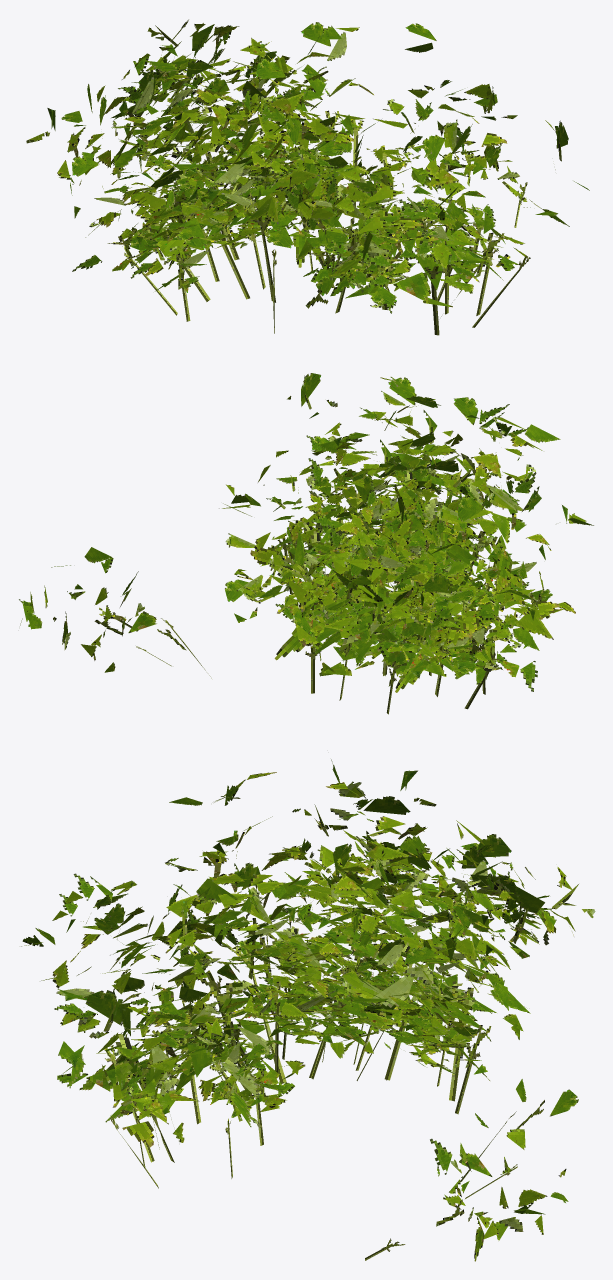
File: groundcover.glb
The picture shows the model from 3 angles, top to bottom: view 1: azimuth 30°, elevation 25°; view 2: azimuth 150°, elevation 25°; view 3: azimuth 270°, elevation 25°; orthographic projection. The views are drawn at different scales.
Parts seen in each view (by area): view 1: Object_10; view 2: Object_10; view 3: Object_10.
Part boxes in pixels (x1,y1,x2,y2): Object_10: (26,19,589,335); Object_10: (19,373,593,714); Object_10: (21,759,595,1261).
Size of the model in its own units: 4.52 by 2.18 by 3.86.
1 material, 1 textured.
